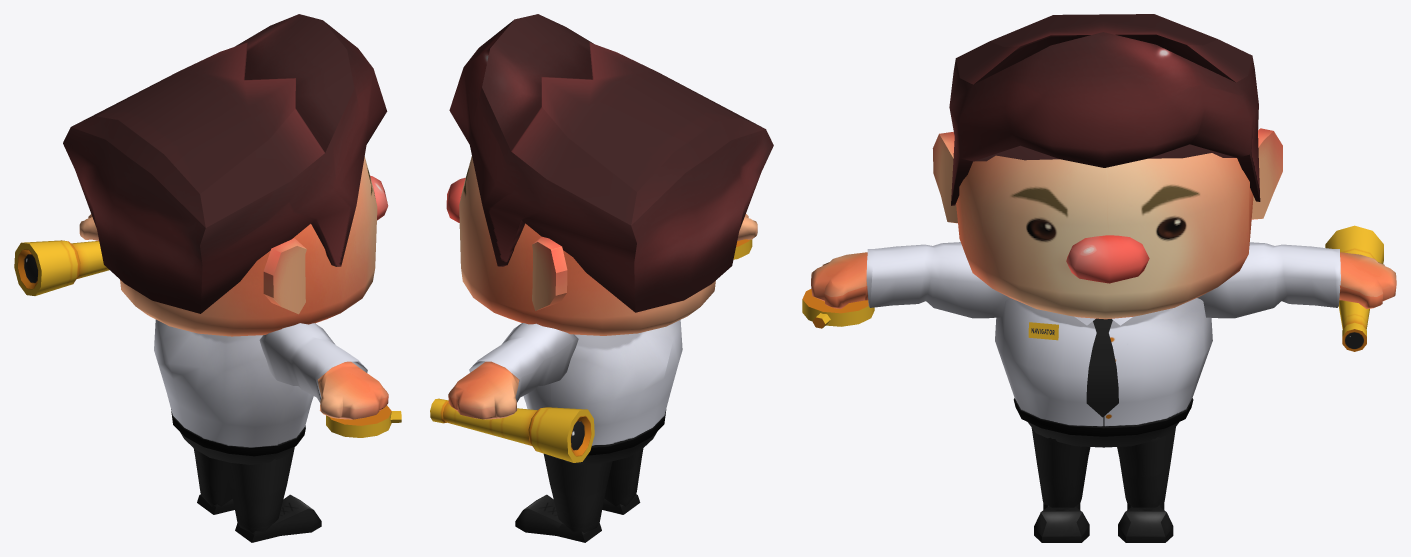
File: Char_Ser_Tran_06.fbx
3 renders of one model, left to right at view 1: azimuth 30°, elevation 25°; view 2: azimuth 150°, elevation 25°; view 3: azimuth 270°, elevation 25°, orthographic. The views are drawn at different scales.
Visible parts, largest first — view 1: Hair_Navigator, Body_Navigator, Head_Navigator, R_Arm_Navigator, R_Leg_Navigator, Scope_Navigator, R_Ear_Navigator, L_Leg_Navigator, Compass_Navigator; view 2: Hair_Navigator, Body_Navigator, Head_Navigator, L_Arm_Navigator, L_Leg_Navigator, Scope_Navigator, L_Ear_Navigator, R_Leg_Navigator, Nose_Navigator; view 3: Hair_Navigator, Head_Navigator, Body_Navigator, R_Arm_Navigator, L_Arm_Navigator, L_Leg_Navigator, R_Leg_Navigator, Nose_Navigator, Scope_Navigator, Tie_Navigator, L_Ear_Navigator, Compass_Navigator (+1 smaller).
Boxes of the visible parts, x1=… form: Hair_Navigator: x1=63, y1=14, x2=387, y2=313; Body_Navigator: x1=154, y1=319, x2=313, y2=464; Head_Navigator: x1=120, y1=156, x2=377, y2=336; R_Arm_Navigator: x1=259, y1=323, x2=388, y2=419; R_Leg_Navigator: x1=224, y1=446, x2=321, y2=542; Scope_Navigator: x1=14, y1=240, x2=109, y2=295; R_Ear_Navigator: x1=263, y1=238, x2=306, y2=314; L_Leg_Navigator: x1=193, y1=448, x2=234, y2=514; Compass_Navigator: x1=326, y1=405, x2=401, y2=437; Hair_Navigator: x1=449, y1=14, x2=773, y2=312; Body_Navigator: x1=523, y1=320, x2=682, y2=464; Head_Navigator: x1=459, y1=156, x2=715, y2=335; L_Arm_Navigator: x1=448, y1=323, x2=578, y2=419; L_Leg_Navigator: x1=515, y1=453, x2=612, y2=542; Scope_Navigator: x1=430, y1=398, x2=594, y2=462; L_Ear_Navigator: x1=532, y1=236, x2=567, y2=310; R_Leg_Navigator: x1=602, y1=448, x2=643, y2=514; Nose_Navigator: x1=446, y1=177, x2=465, y2=222; Hair_Navigator: x1=949, y1=14, x2=1260, y2=205; Head_Navigator: x1=956, y1=153, x2=1253, y2=319; Body_Navigator: x1=995, y1=298, x2=1212, y2=447; R_Arm_Navigator: x1=811, y1=242, x2=1009, y2=318; L_Arm_Navigator: x1=1197, y1=242, x2=1396, y2=318; L_Leg_Navigator: x1=1117, y1=427, x2=1175, y2=542; R_Leg_Navigator: x1=1031, y1=428, x2=1090, y2=542; Nose_Navigator: x1=1066, y1=235, x2=1149, y2=283; Scope_Navigator: x1=1325, y1=225, x2=1383, y2=351; Tie_Navigator: x1=1086, y1=318, x2=1118, y2=417; L_Ear_Navigator: x1=1251, y1=128, x2=1282, y2=219; Compass_Navigator: x1=802, y1=289, x2=874, y2=328.
Bounding box in the file's own units: 4.6 × 7.65 × 7.83.
